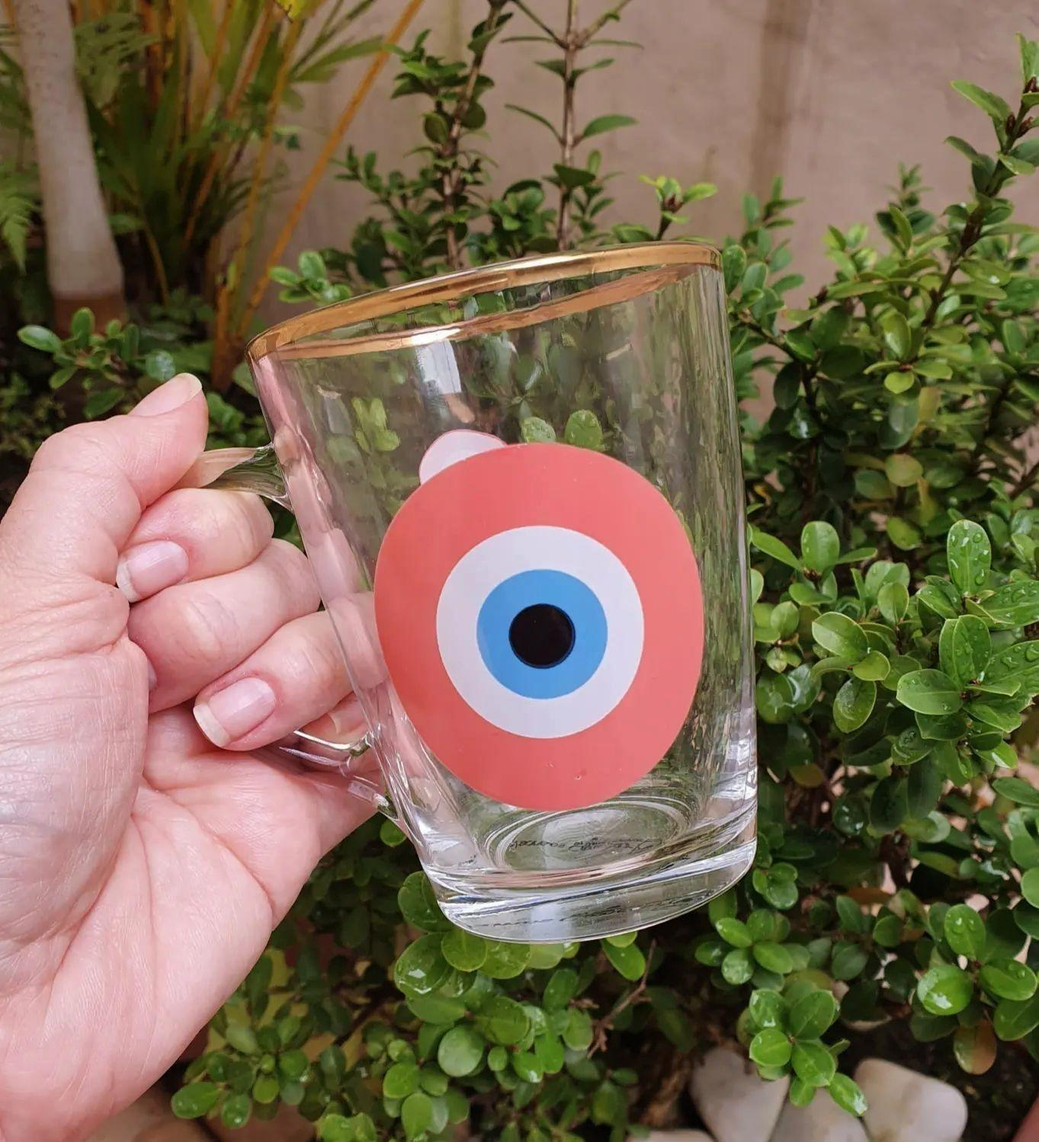glass-mug: (131, 214, 781, 961)
